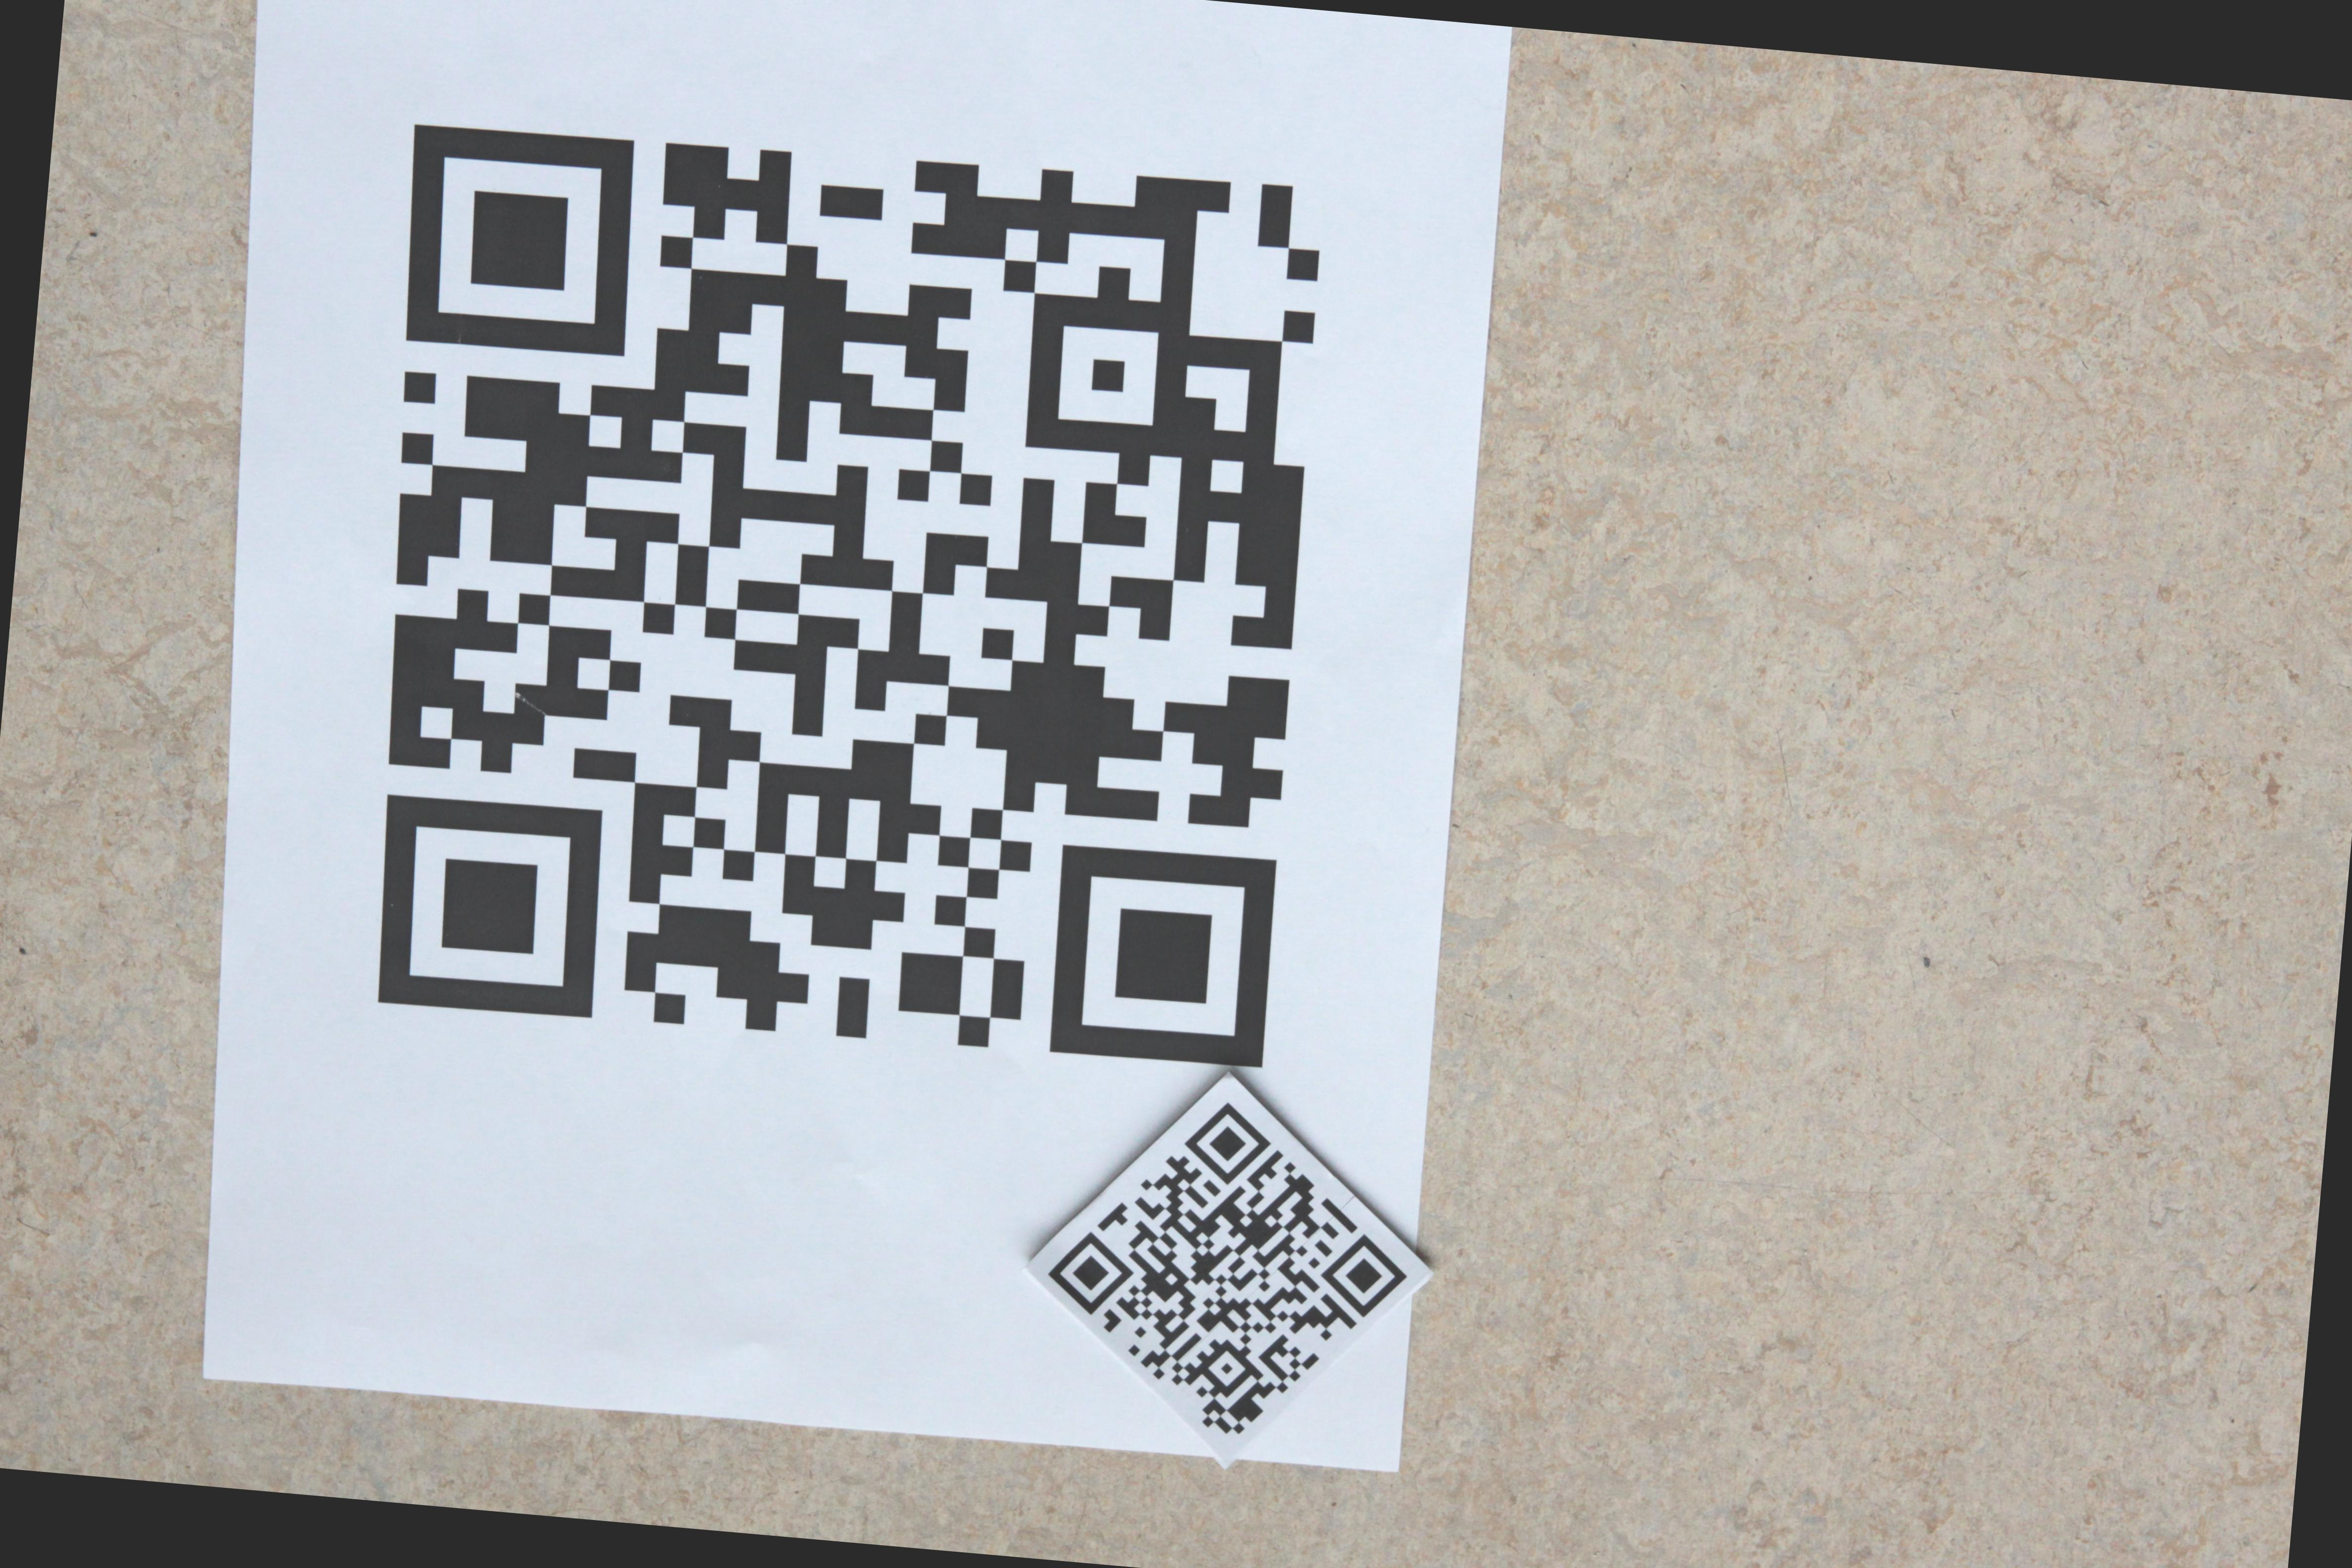QR: (383, 126, 1320, 1059), (1027, 1069, 1456, 1444)
